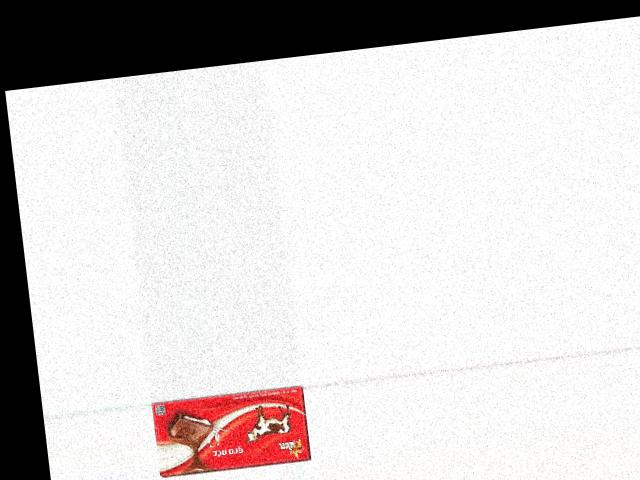chocolate: (151, 384, 314, 478)
